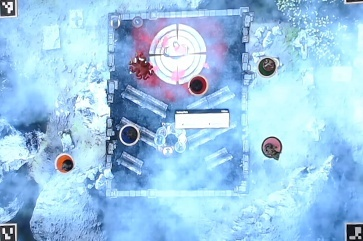blue: (118, 122, 141, 145)
giant_red_octopus: (127, 53, 154, 81)
green: (255, 56, 278, 79)
orange: (52, 152, 75, 175)
pink_green: (260, 136, 283, 159)
red: (189, 77, 212, 100)
